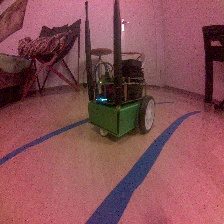rob: (87, 57, 155, 137)
